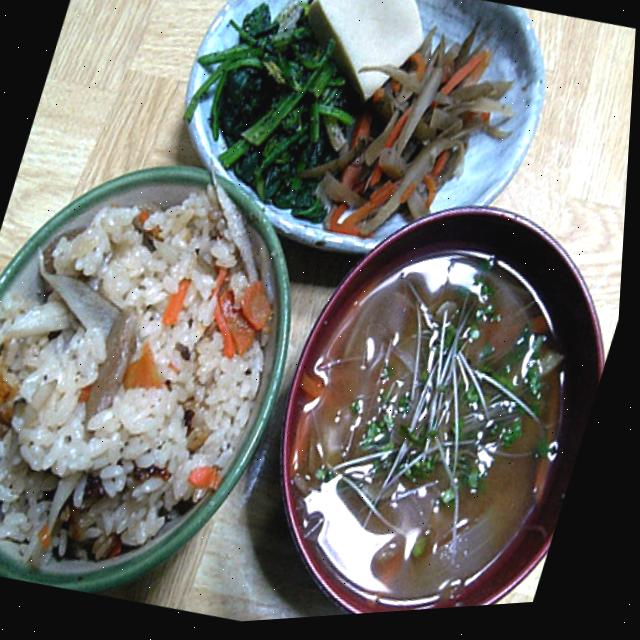汤锅炖物: (236, 156, 631, 626)
米饭主食: (0, 109, 349, 632)
蔬菜料理: (176, 0, 579, 282)
